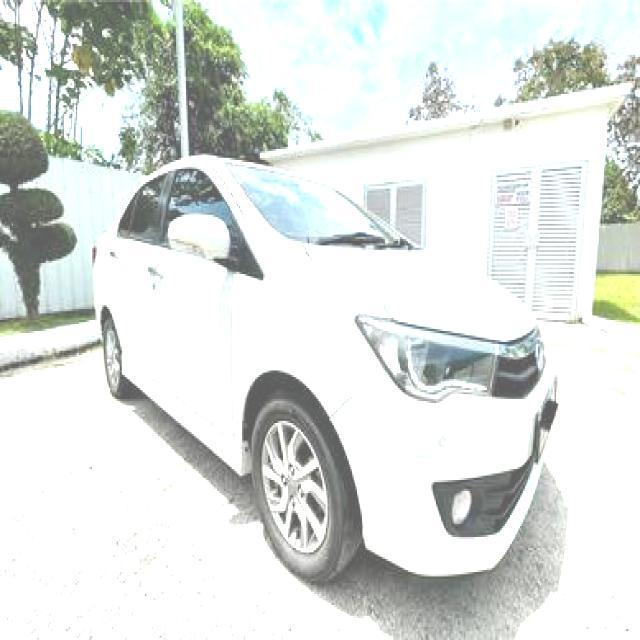PeroduaBezza: (89, 152, 559, 585)
